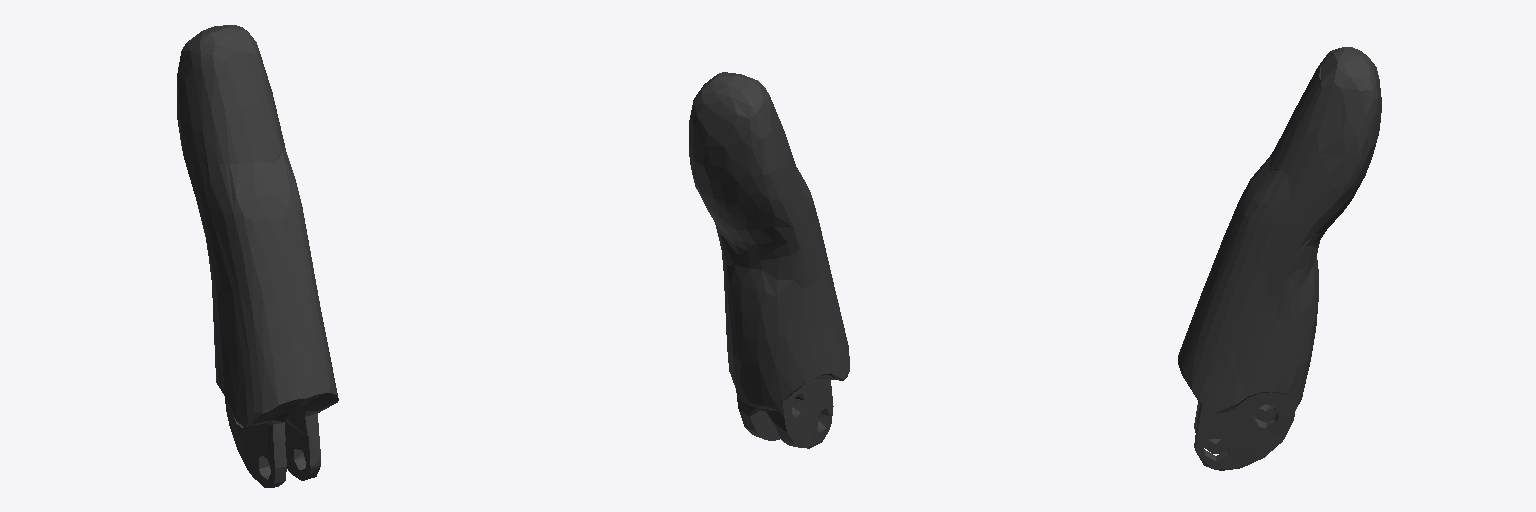
File: L_index_distal.obj
3 renders of one model, left to right at view 1: azimuth 30°, elevation 25°; view 2: azimuth 150°, elevation 25°; view 3: azimuth 270°, elevation 25°, orthographic.
Size of the model in its own units: 0.0126 by 0.0512 by 0.0232.